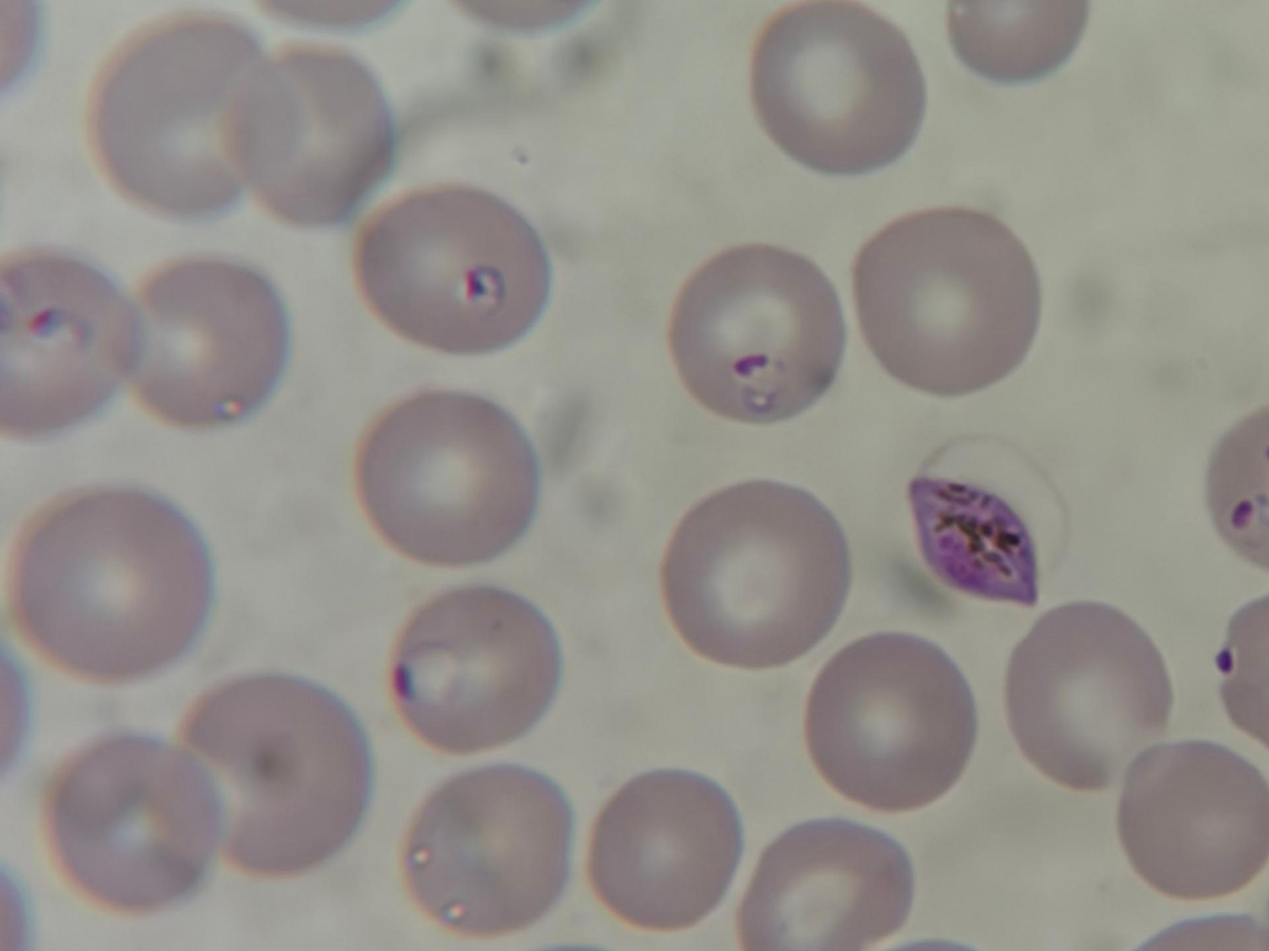Infected: (355, 183, 548, 355), (667, 244, 844, 421), (388, 587, 558, 753), (904, 436, 1063, 606), (1, 249, 146, 432)
Uninfected: (178, 674, 375, 874), (13, 486, 215, 680), (91, 13, 270, 218), (659, 481, 850, 666), (852, 210, 1044, 391), (356, 391, 539, 564), (46, 733, 227, 907), (1003, 602, 1167, 790), (223, 43, 393, 223), (803, 634, 974, 811), (399, 763, 569, 935), (750, 1, 919, 174), (127, 259, 288, 426), (586, 770, 744, 929), (734, 818, 911, 951), (1118, 741, 1269, 895)
